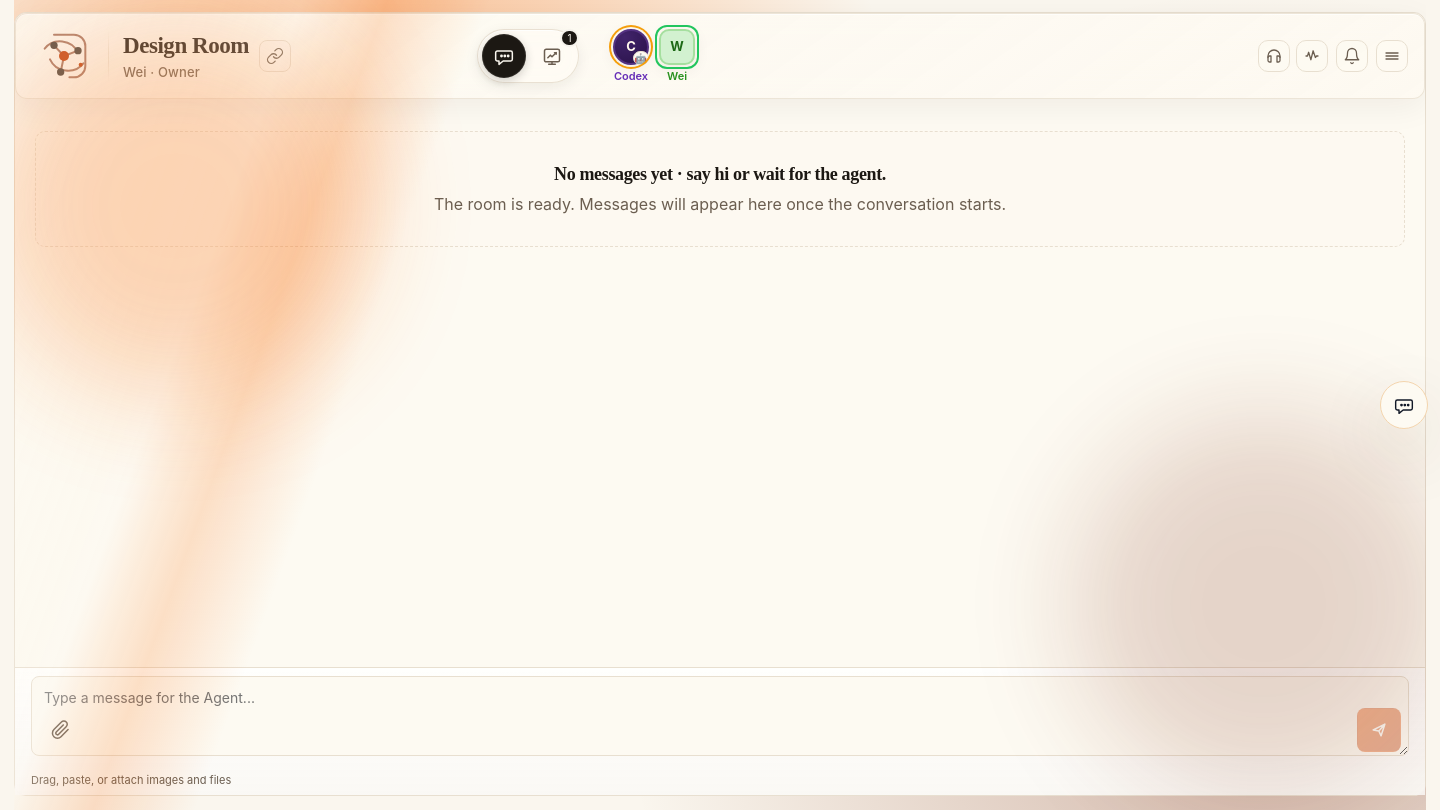
Collaborative Whiteboard workspace › lets the participant retry a transient editor load failure
The width and height of the screenshot is (1440, 810).
Expected: the text named "1 active editor" reads "1", [568,32,572,44]
Click the tab named "whiteboard" at [552, 56], box [530,34,574,78]
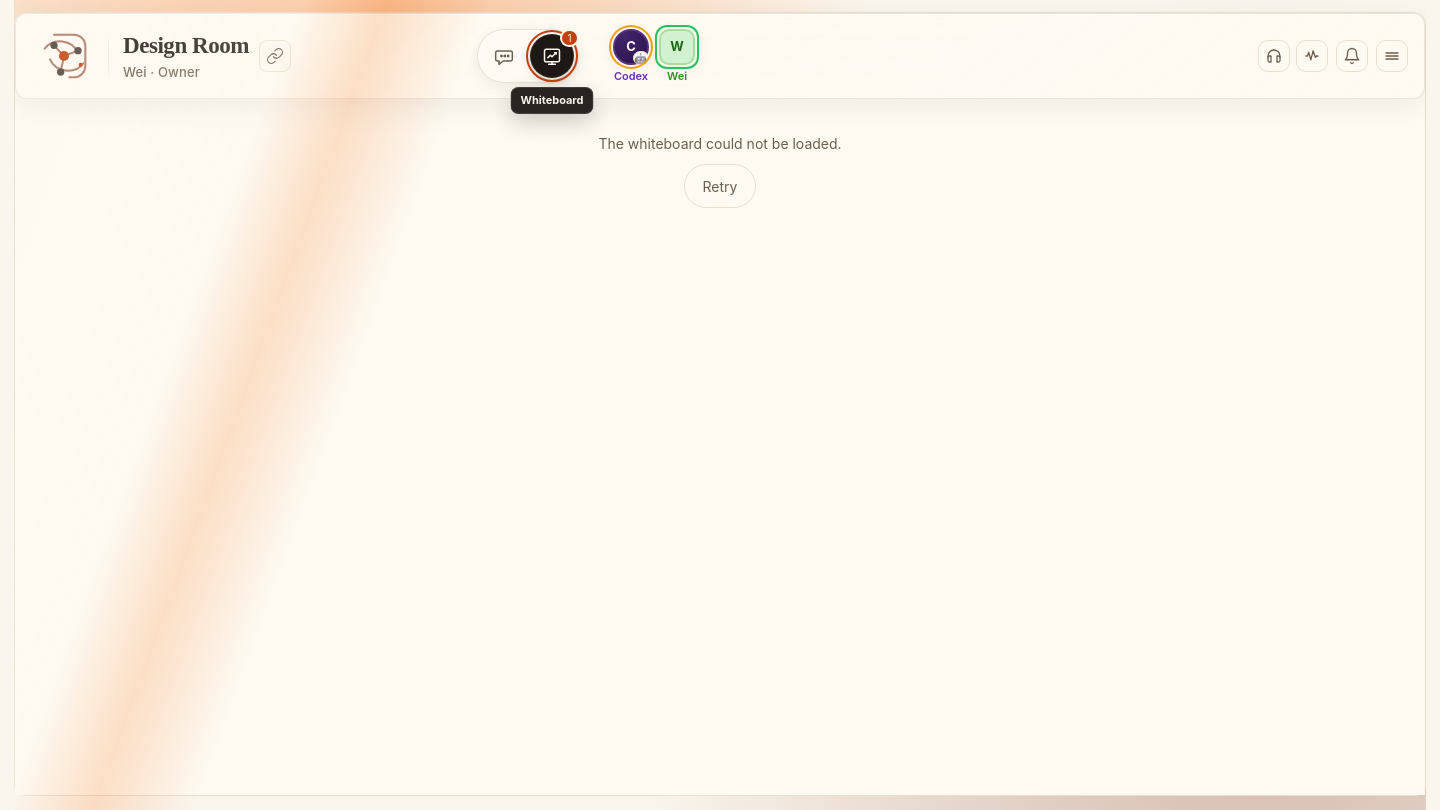
Expected: the text named "1 active editor" reads "1", [568,32,572,44]
Expected: the text "The whiteboard could not be loaded." is shown, [598,135,842,152]
Click the button "Retry" at [720, 186], box [684,164,756,208]
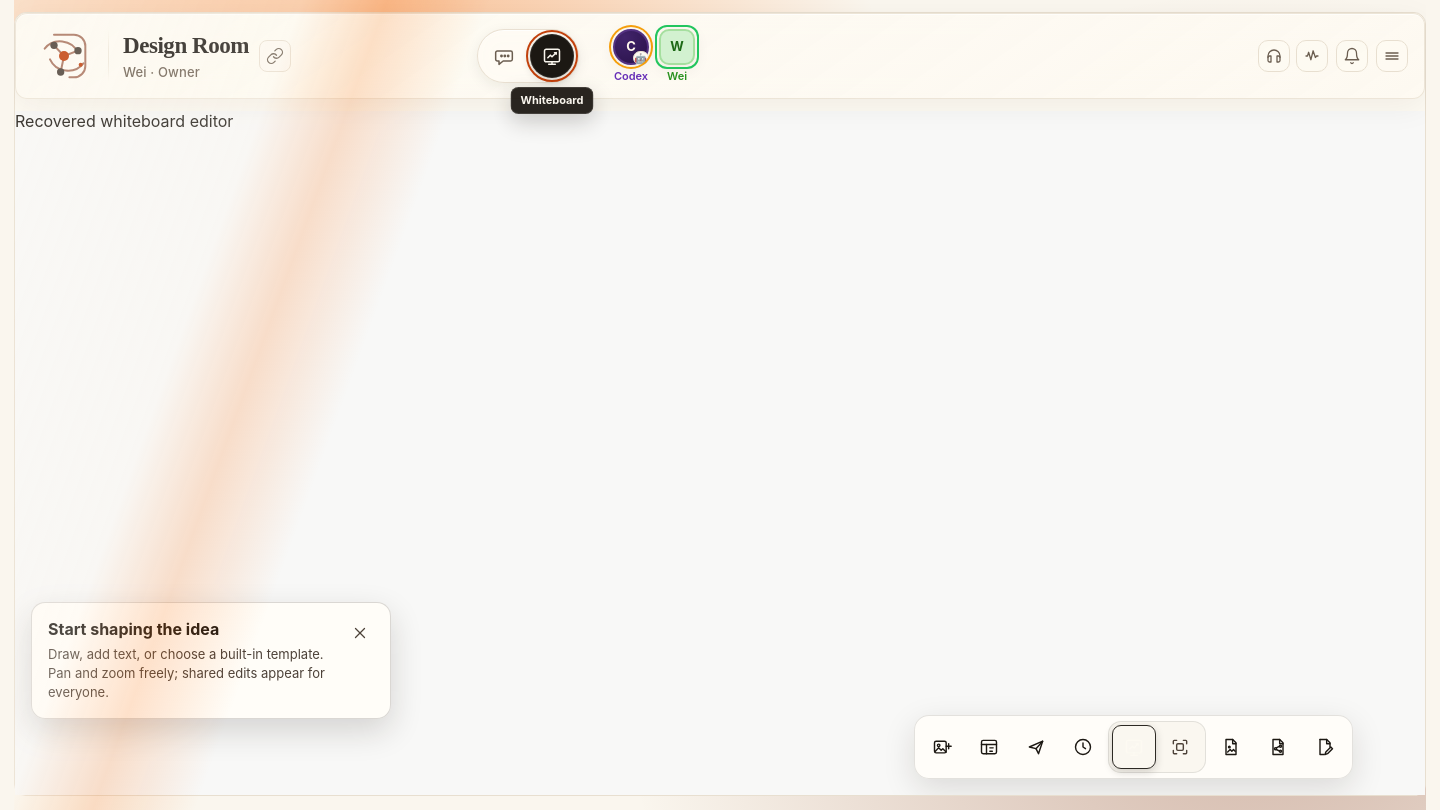
Expected: the text "Recovered whiteboard editor" is shown, [15,111,233,131]
